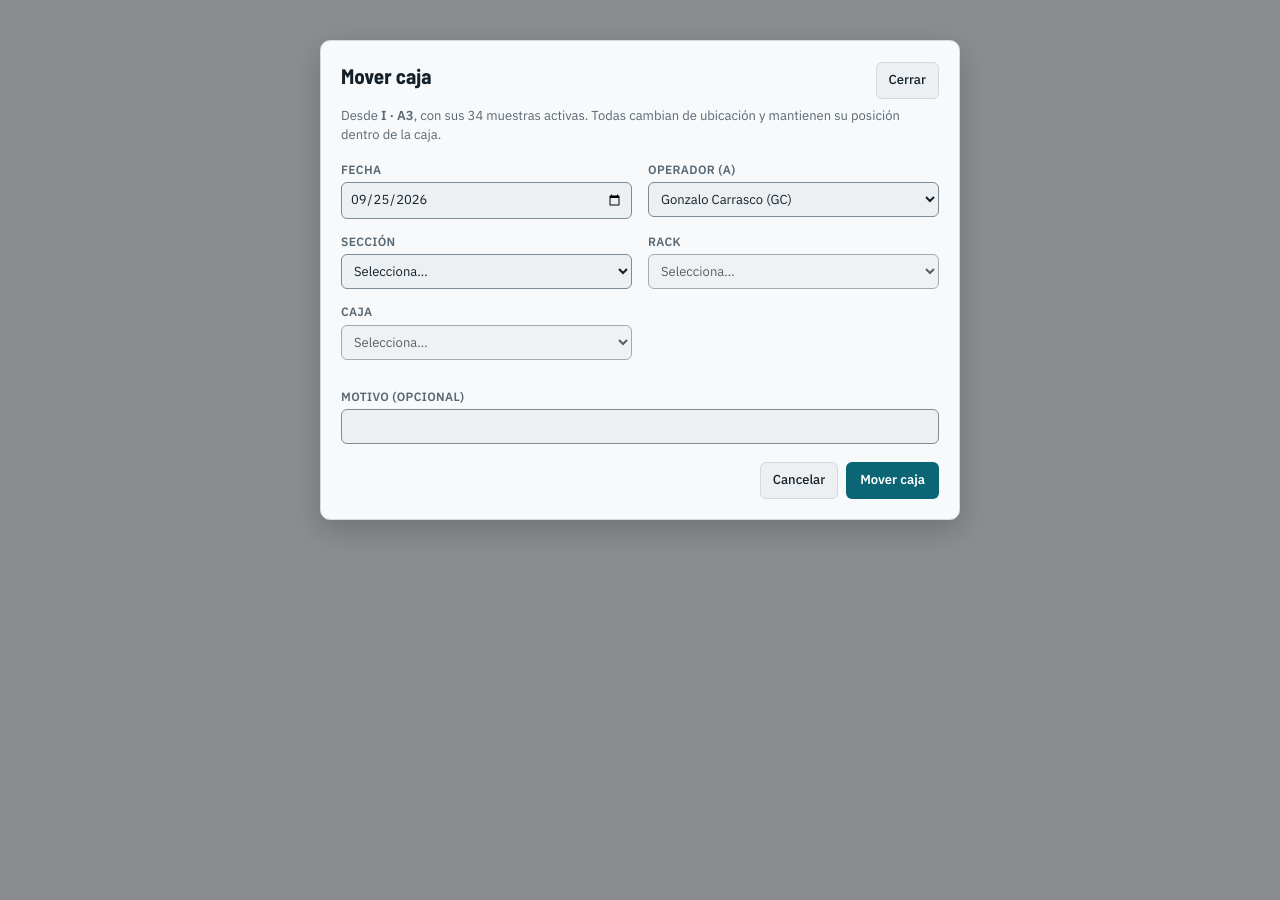
Test case: BoxMoveModal · destino como listas (F4, parte 3) › dice que el destino está libre antes de confirmar
Select "II" in the dropdown labelled "Sección" at (486, 272), box 341,254 -> 632,289
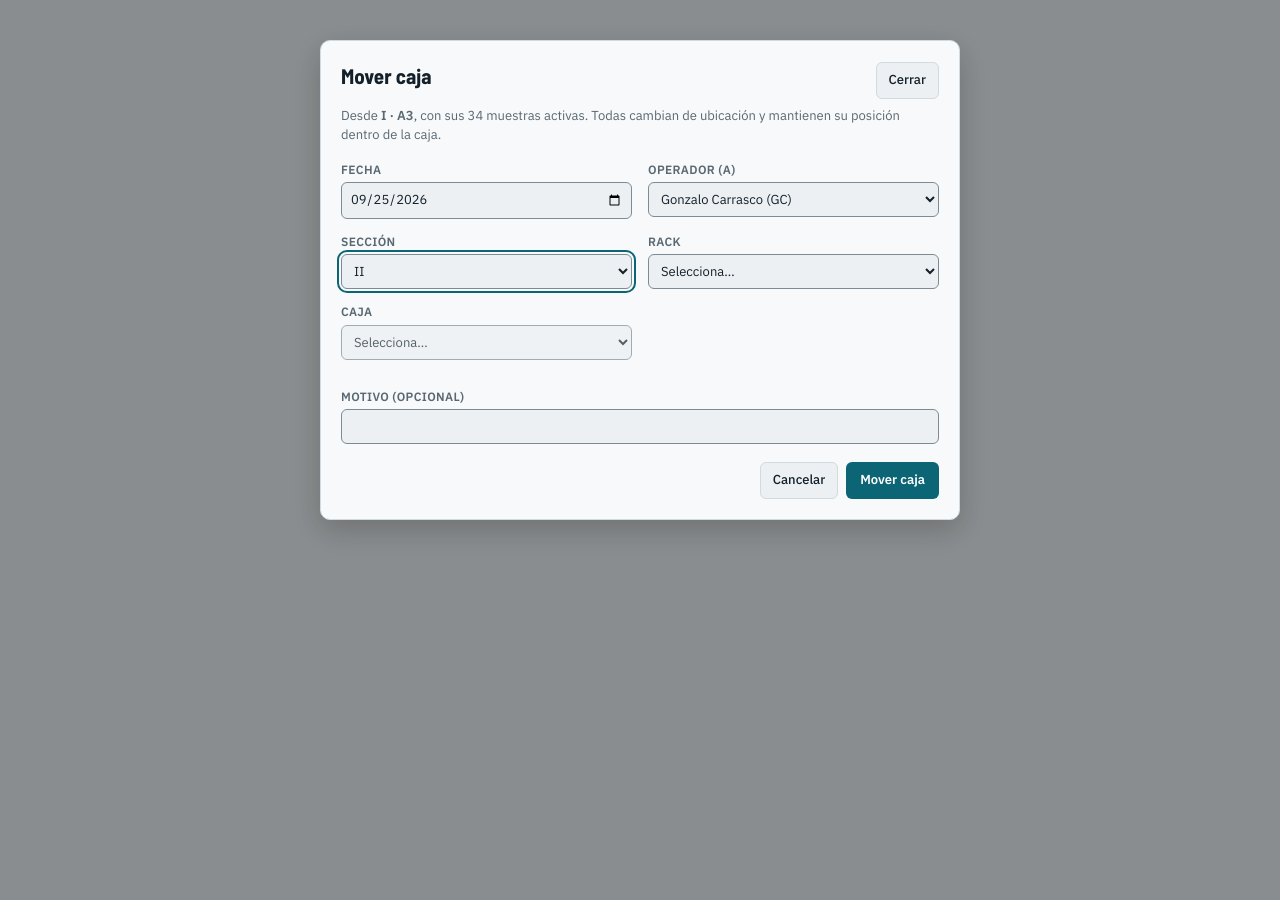
Select "D" in the dropdown labelled "Rack" at (794, 272), box 648,254 -> 939,289
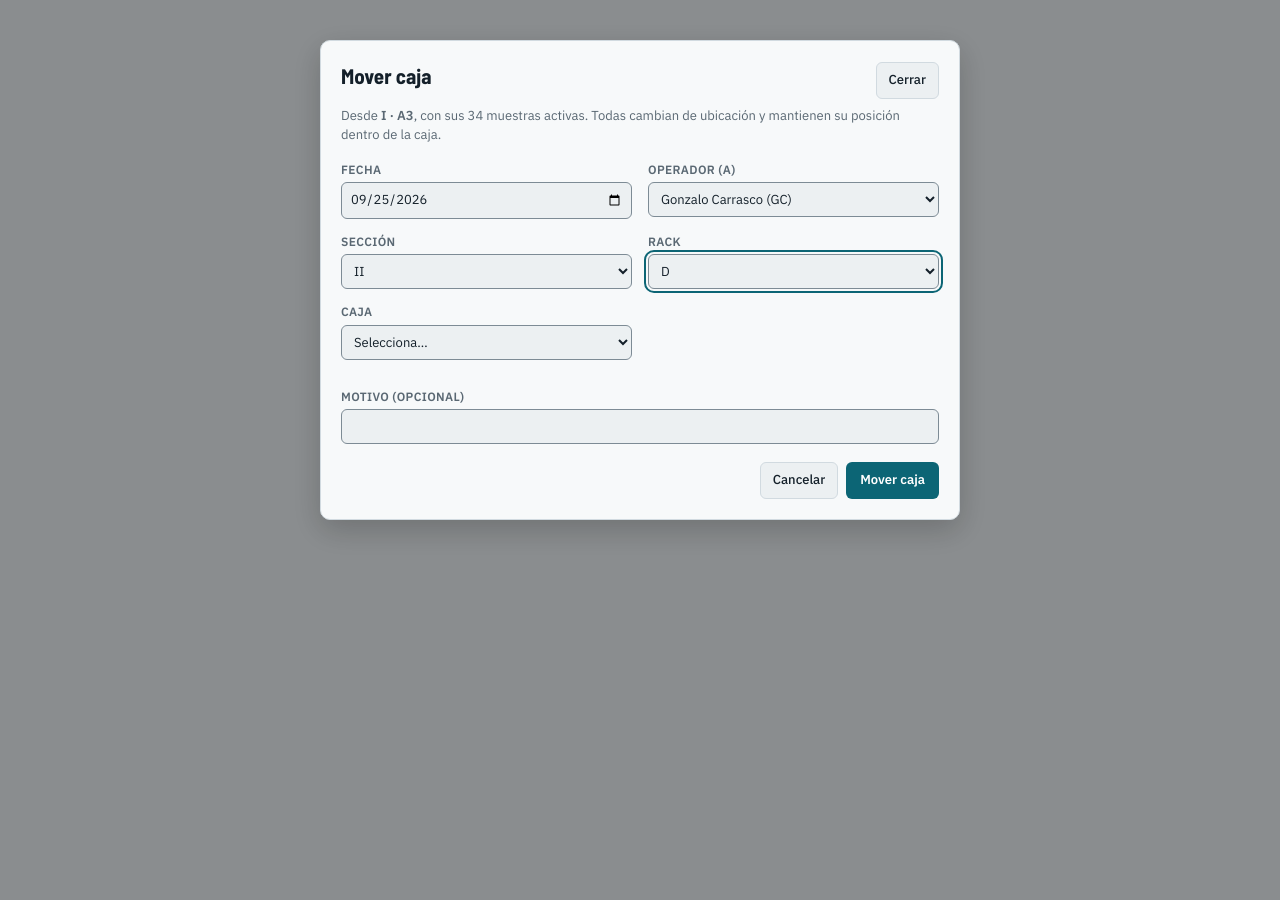
Select "D7 · lugar libre" in the dropdown labelled "Caja" at (486, 342), box 341,324 -> 632,360
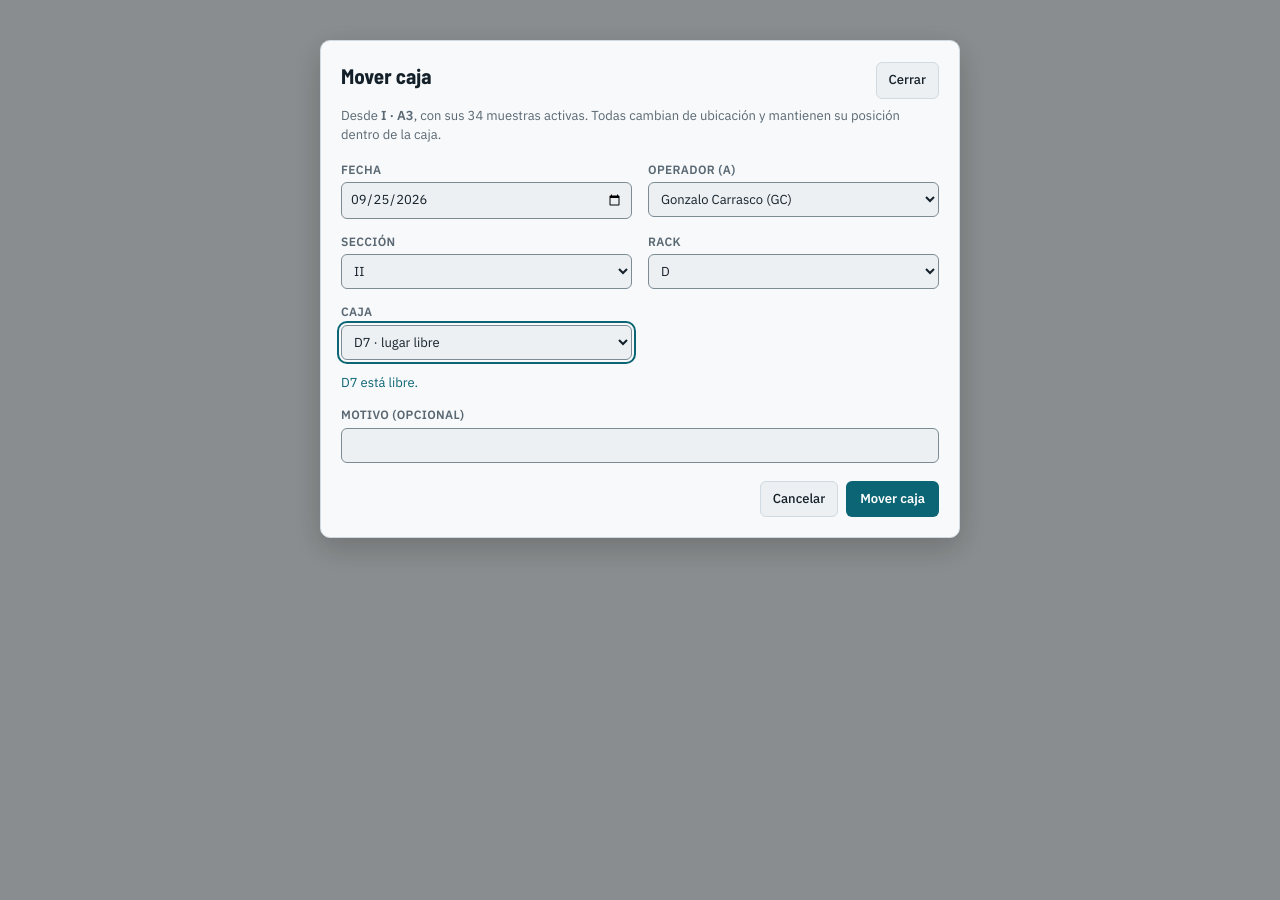
Check: the text "D7 está libre." is shown, box 341,374 -> 418,390
